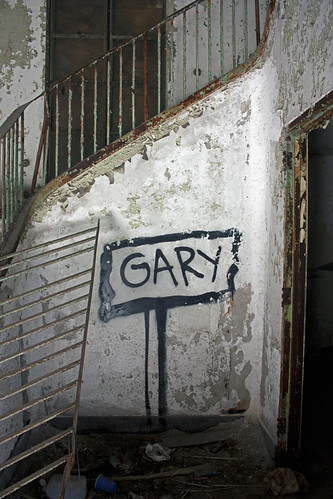door: (283, 118, 333, 499)
graffiti: (84, 220, 257, 409)
